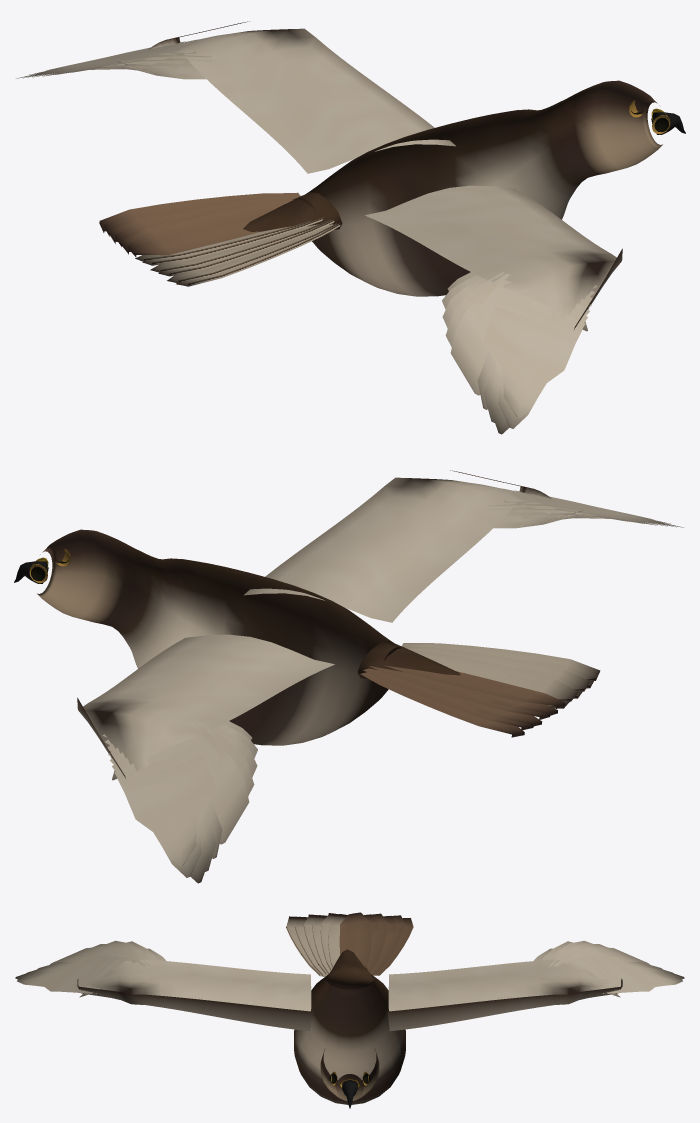
The model's file is SM_Bird_buzzard_flap3.glb.
3 renders of one model, top to bottom at view 1: azimuth 30°, elevation 25°; view 2: azimuth 150°, elevation 25°; view 3: azimuth 270°, elevation 25°, orthographic. The views are drawn at different scales.
Parts seen in each view (by area): view 1: SM_Bird_buzzard_flap3; view 2: SM_Bird_buzzard_flap3; view 3: SM_Bird_buzzard_flap3.
Boxes of the visible parts, x1=… form: SM_Bird_buzzard_flap3: x1=16, y1=21, x2=685, y2=434; SM_Bird_buzzard_flap3: x1=14, y1=470, x2=683, y2=883; SM_Bird_buzzard_flap3: x1=15, y1=912, x2=684, y2=1108.
Bounding box in the file's own units: 0.5872 × 0.1652 × 0.9011.
